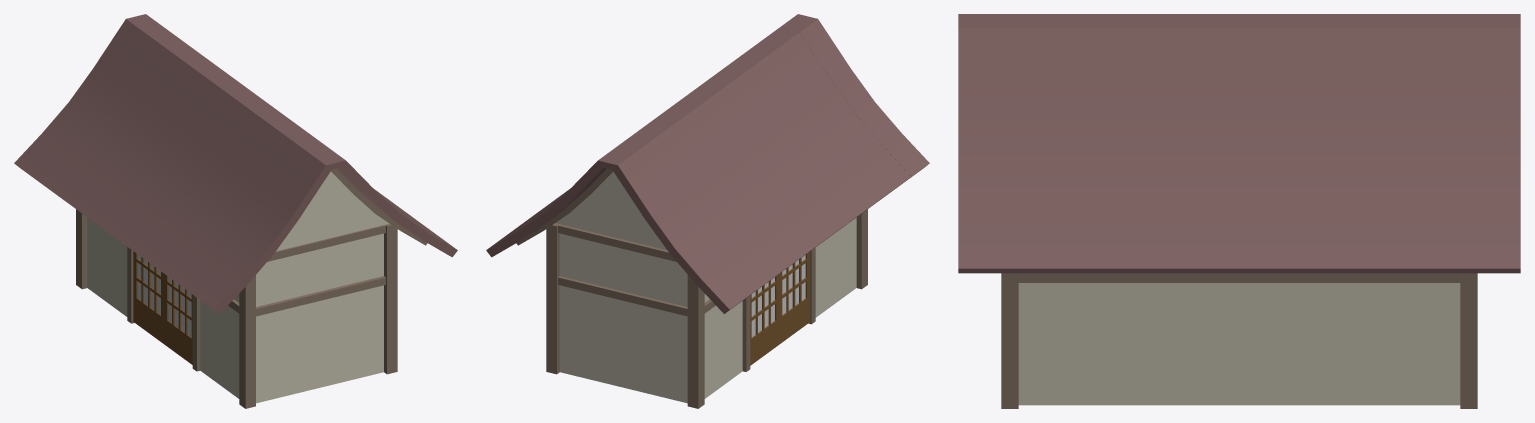
File: 4 x 8 house.fbx
3 views of the same model, side by side, from view 1: azimuth 30°, elevation 25°; view 2: azimuth 150°, elevation 25°; view 3: azimuth 270°, elevation 25° (orthographic). The views are drawn at different scales.
Parts seen in each view (by area): view 1: Column_8x40sq90; view 2: Column_8x40sq90; view 3: Column_8x40sq90.
Boxes of the visible parts, x1,y1,x2,y2 form: Column_8x40sq90: (14, 14, 457, 408); Column_8x40sq90: (486, 14, 929, 408); Column_8x40sq90: (958, 14, 1520, 408).
Bounding box in the file's own units: 1378 × 1290 × 1959.
